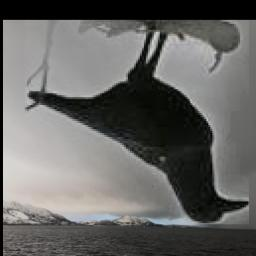Crow: (25, 20, 249, 224)
